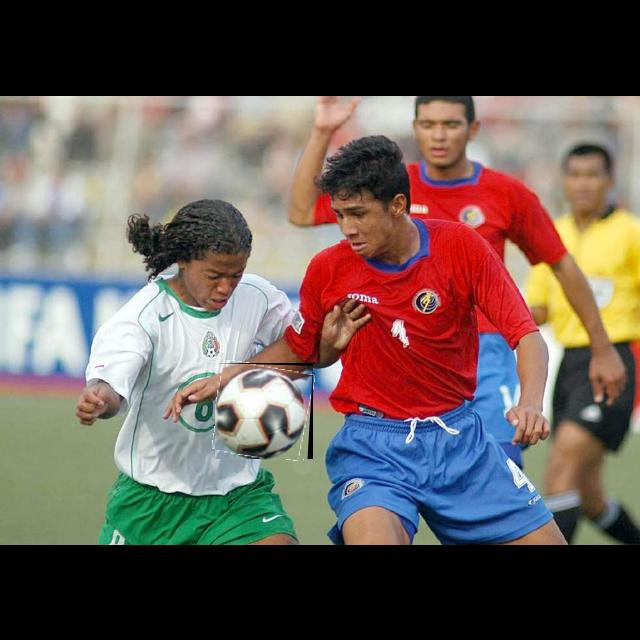Football: (215, 363, 313, 459)
